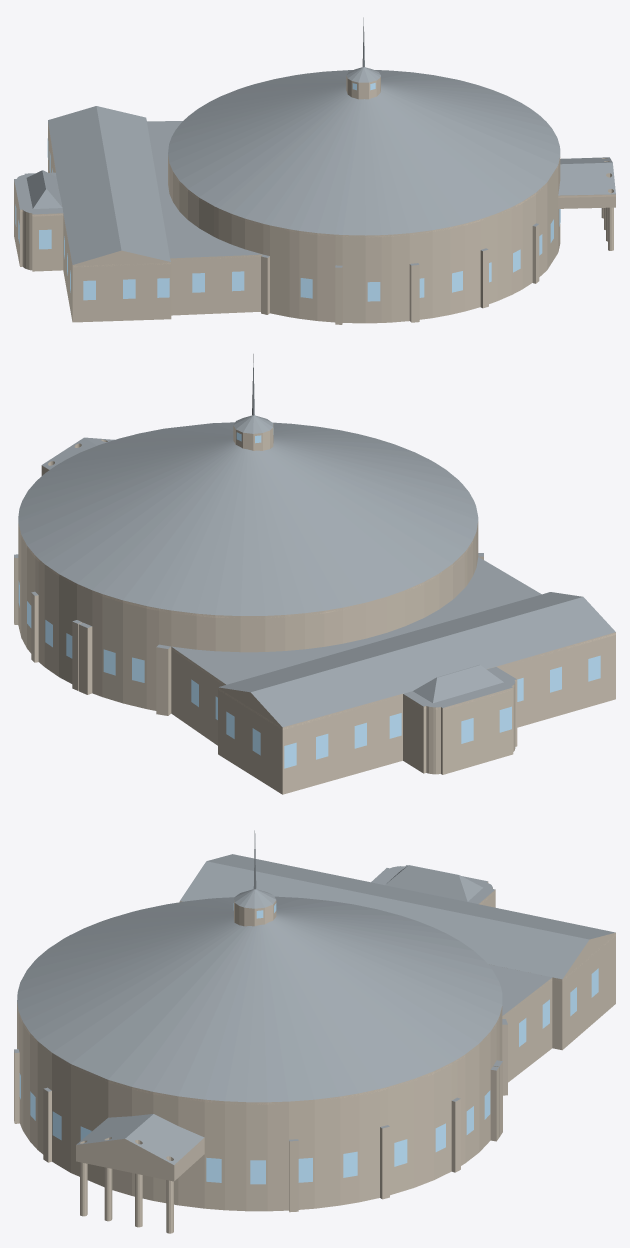
3 views of the same model, one above another, from view 1: azimuth 30°, elevation 25°; view 2: azimuth 150°, elevation 25°; view 3: azimuth 270°, elevation 25° (orthographic). The views are drawn at different scales.
Visible parts, largest first — view 1: roof, stone, window, trim; view 2: roof, stone, window, trim; view 3: roof, stone, window.
Part boxes in pixels (bbox=[...]): roof: bbox=[14, 17, 615, 267]; stone: bbox=[14, 76, 615, 324]; window: bbox=[15, 83, 560, 301]; trim: bbox=[21, 125, 615, 267]; roof: bbox=[14, 354, 615, 727]; stone: bbox=[14, 424, 615, 794]; window: bbox=[18, 428, 600, 768]; trim: bbox=[18, 465, 615, 729]; roof: bbox=[14, 830, 615, 1164]; stone: bbox=[14, 882, 615, 1233]; window: bbox=[19, 903, 598, 1184].
Bounding box in the file's own units: 61.14 × 26 × 50.03.
